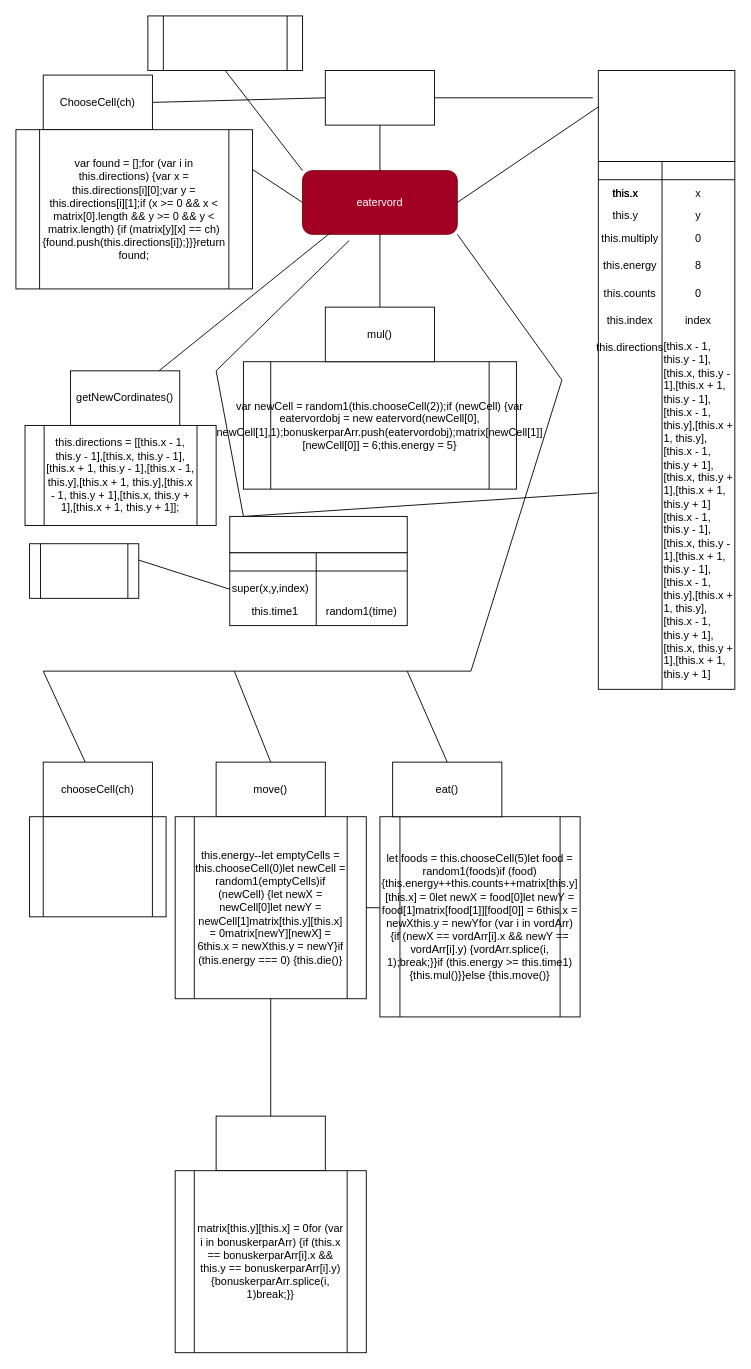
Some shapes in this 751 by 1369 pixel diagram are drawn without their labels. Each missing label, with the centre of its shape:
Constructor(x,y,index): (x=318, y=534)
Counstructor(x,y,index): (x=666, y=116)
die(): (x=270, y=1143)
LivingCreature: (x=379, y=97)
this.getNewCoordinates() return super.chooseCell(ch);: (x=97, y=866)
var random1=require("./random1"): (x=225, y=43)
var time=[16,18]: (x=84, y=570)
